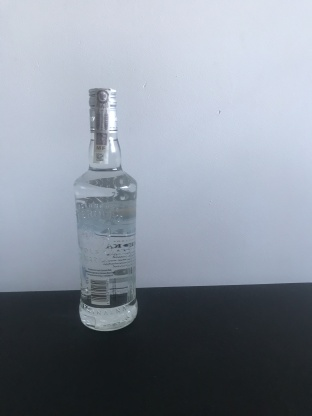nakretka: (86, 84, 119, 136)
